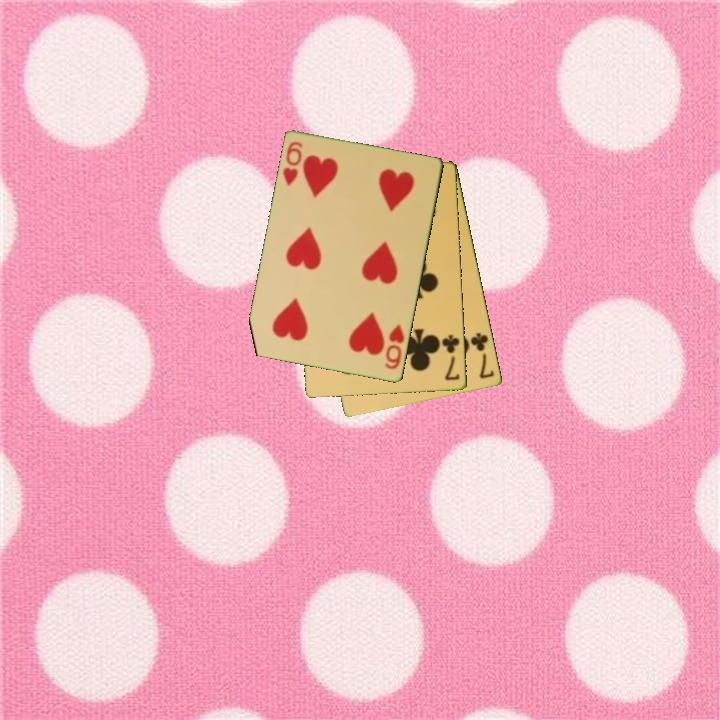6h: (279, 138, 306, 189), (382, 321, 407, 372)
7c: (467, 329, 497, 382), (438, 331, 463, 384)
